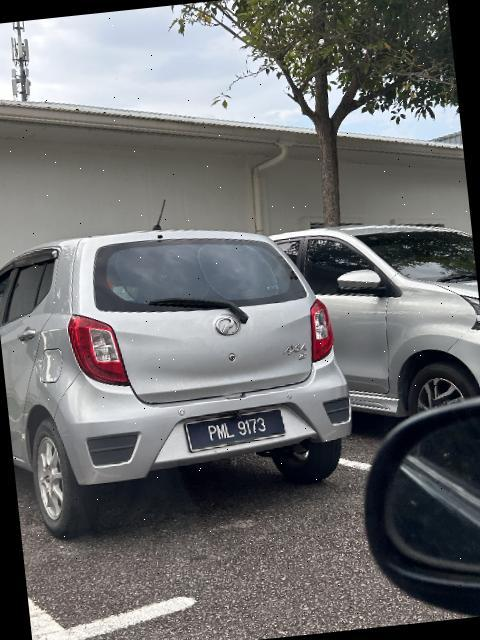License_Plate: (186, 410, 292, 454)
PML9173: (186, 410, 292, 454)
car: (1, 211, 363, 540), (260, 207, 480, 461)
